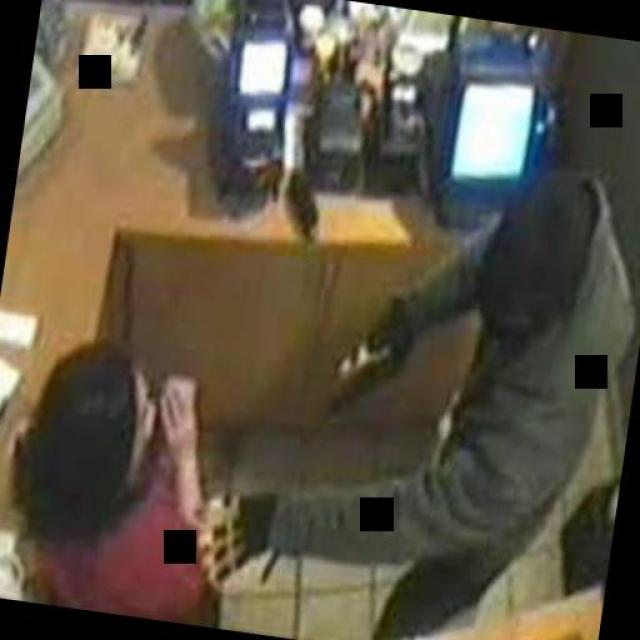gun: (319, 291, 429, 415)
